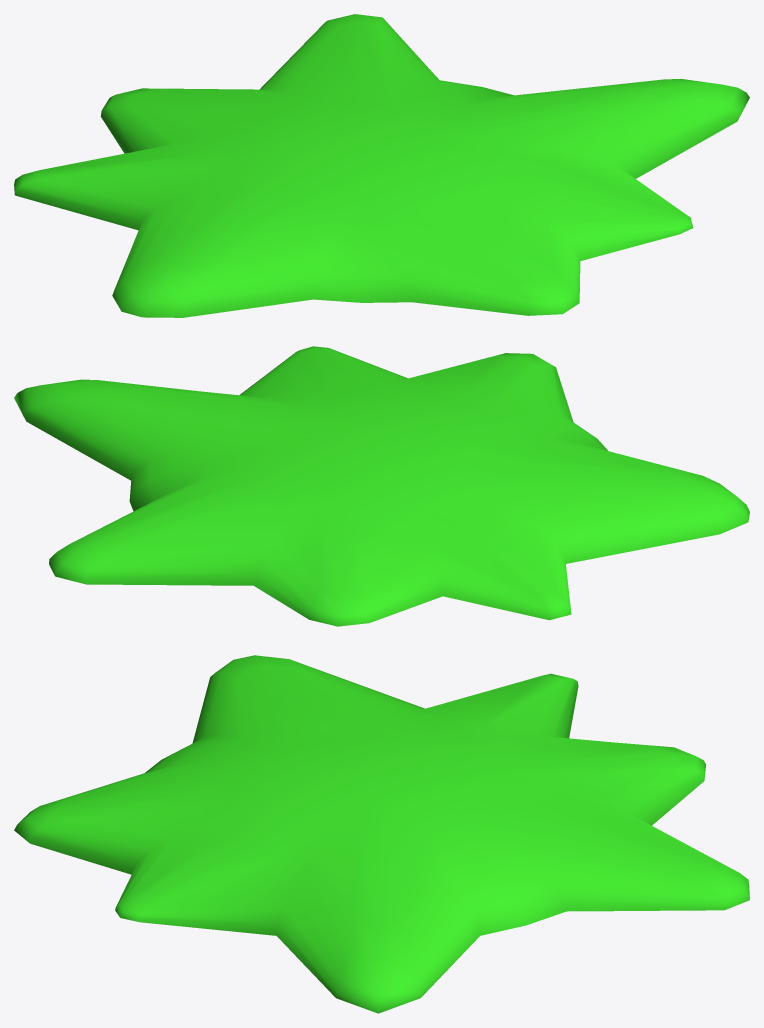
Rendered from Goo.fbx.
The picture shows the model from 3 angles, top to bottom: view 1: azimuth 30°, elevation 25°; view 2: azimuth 150°, elevation 25°; view 3: azimuth 270°, elevation 25°; orthographic projection. The views are drawn at different scales.
Visible parts, largest first — view 1: Sphere; view 2: Sphere; view 3: Sphere.
Boxes of the visible parts, x1,y1,x2,y2 form: Sphere: (14, 14, 749, 317); Sphere: (14, 346, 749, 626); Sphere: (14, 655, 749, 1013).
Size of the model in its own units: 420 by 30.47 by 371.
